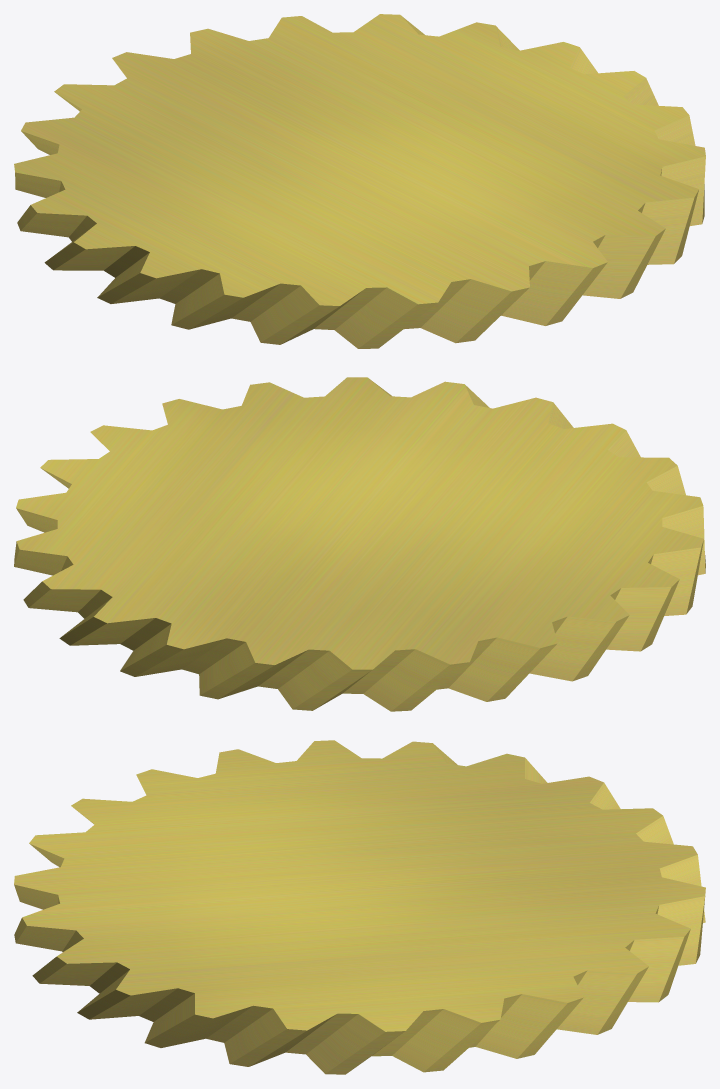
Rendered from CogSpiralOpp022.fbx.
3 renders of one model, top to bottom at view 1: azimuth 30°, elevation 25°; view 2: azimuth 150°, elevation 25°; view 3: azimuth 270°, elevation 25°, orthographic.
Visible parts, largest first — view 1: CogSpiralOpp022; view 2: CogSpiralOpp022; view 3: CogSpiralOpp022.
Boxes of the visible parts, x1,y1,x2,y2 form: CogSpiralOpp022: [14, 14, 705, 348]; CogSpiralOpp022: [14, 377, 705, 711]; CogSpiralOpp022: [14, 740, 705, 1074].
Size of the model in its own units: 215 by 14.59 by 215.
